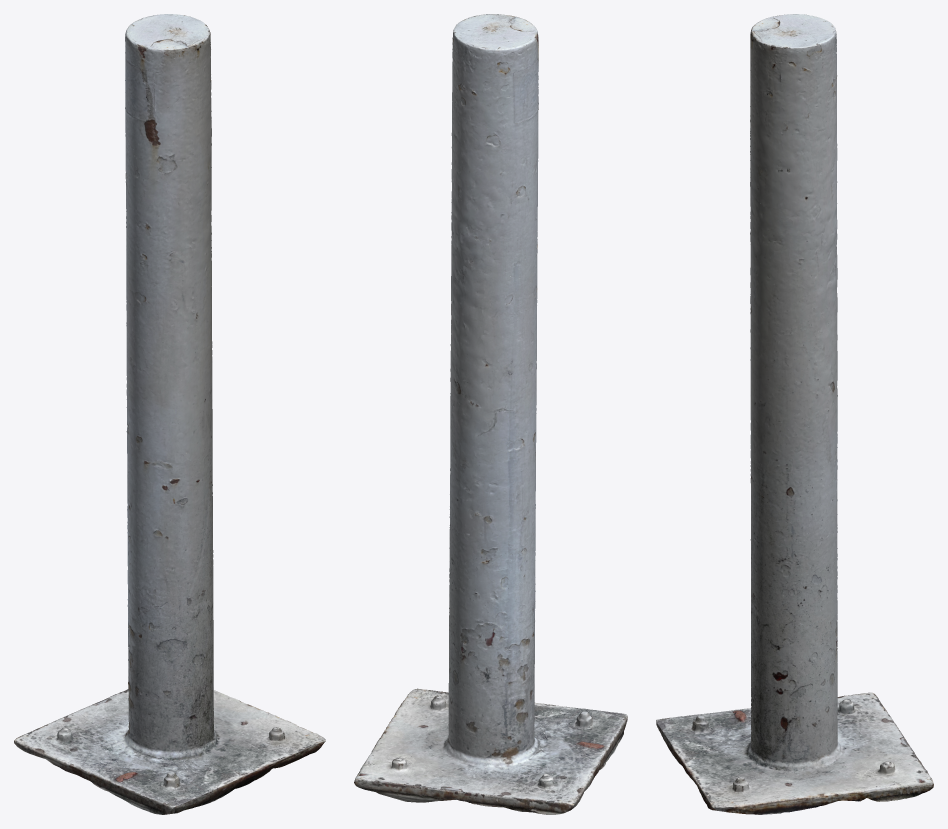
The model's file is traffic_barrier_pole.glb.
The picture shows the model from 3 angles, left to right: view 1: azimuth 30°, elevation 25°; view 2: azimuth 150°, elevation 25°; view 3: azimuth 270°, elevation 25°; orthographic projection.
Visible parts, largest first — view 1: poly; view 2: poly; view 3: poly.
Part boxes in pixels (bbox=[...]): poly: bbox=[14, 14, 325, 814]; poly: bbox=[354, 14, 627, 814]; poly: bbox=[656, 14, 933, 814].
Size of the model in its own units: 0.6746 by 2 by 0.6834.
Materials: 1 (1 with a texture image).
